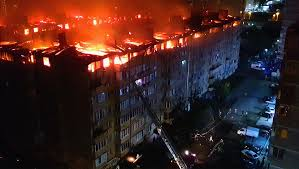fire: (6, 7, 245, 55)
